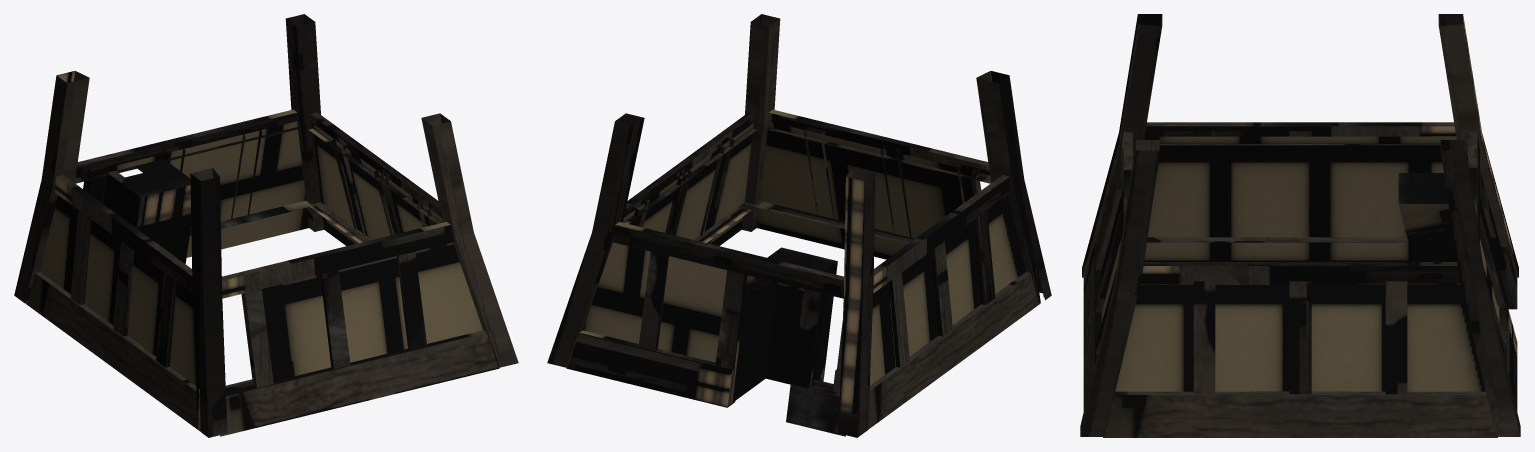
File: MS_Windmill2.fbx
3 renders of one model, left to right at view 1: azimuth 30°, elevation 25°; view 2: azimuth 150°, elevation 25°; view 3: azimuth 270°, elevation 25°, orthographic. The views are drawn at different scales.
Parts seen in each view (by area): view 1: Cube.009; view 2: Cube.009; view 3: Cube.009.
Boxes of the visible parts, box(x1,y1,x2,y2) form: Cube.009: box(14, 14, 518, 437); Cube.009: box(547, 14, 1051, 437); Cube.009: box(1080, 14, 1520, 437).
Bounding box in the file's own units: 760 × 556 × 835.
Materials: 1 (1 with a texture image).
